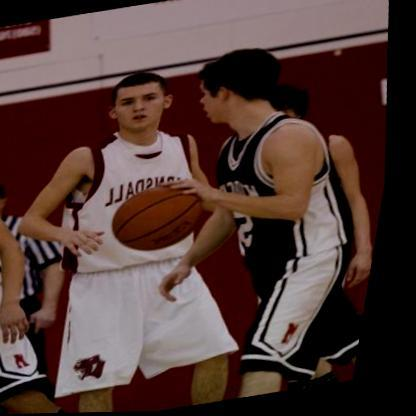basketball: (109, 178, 217, 262)
